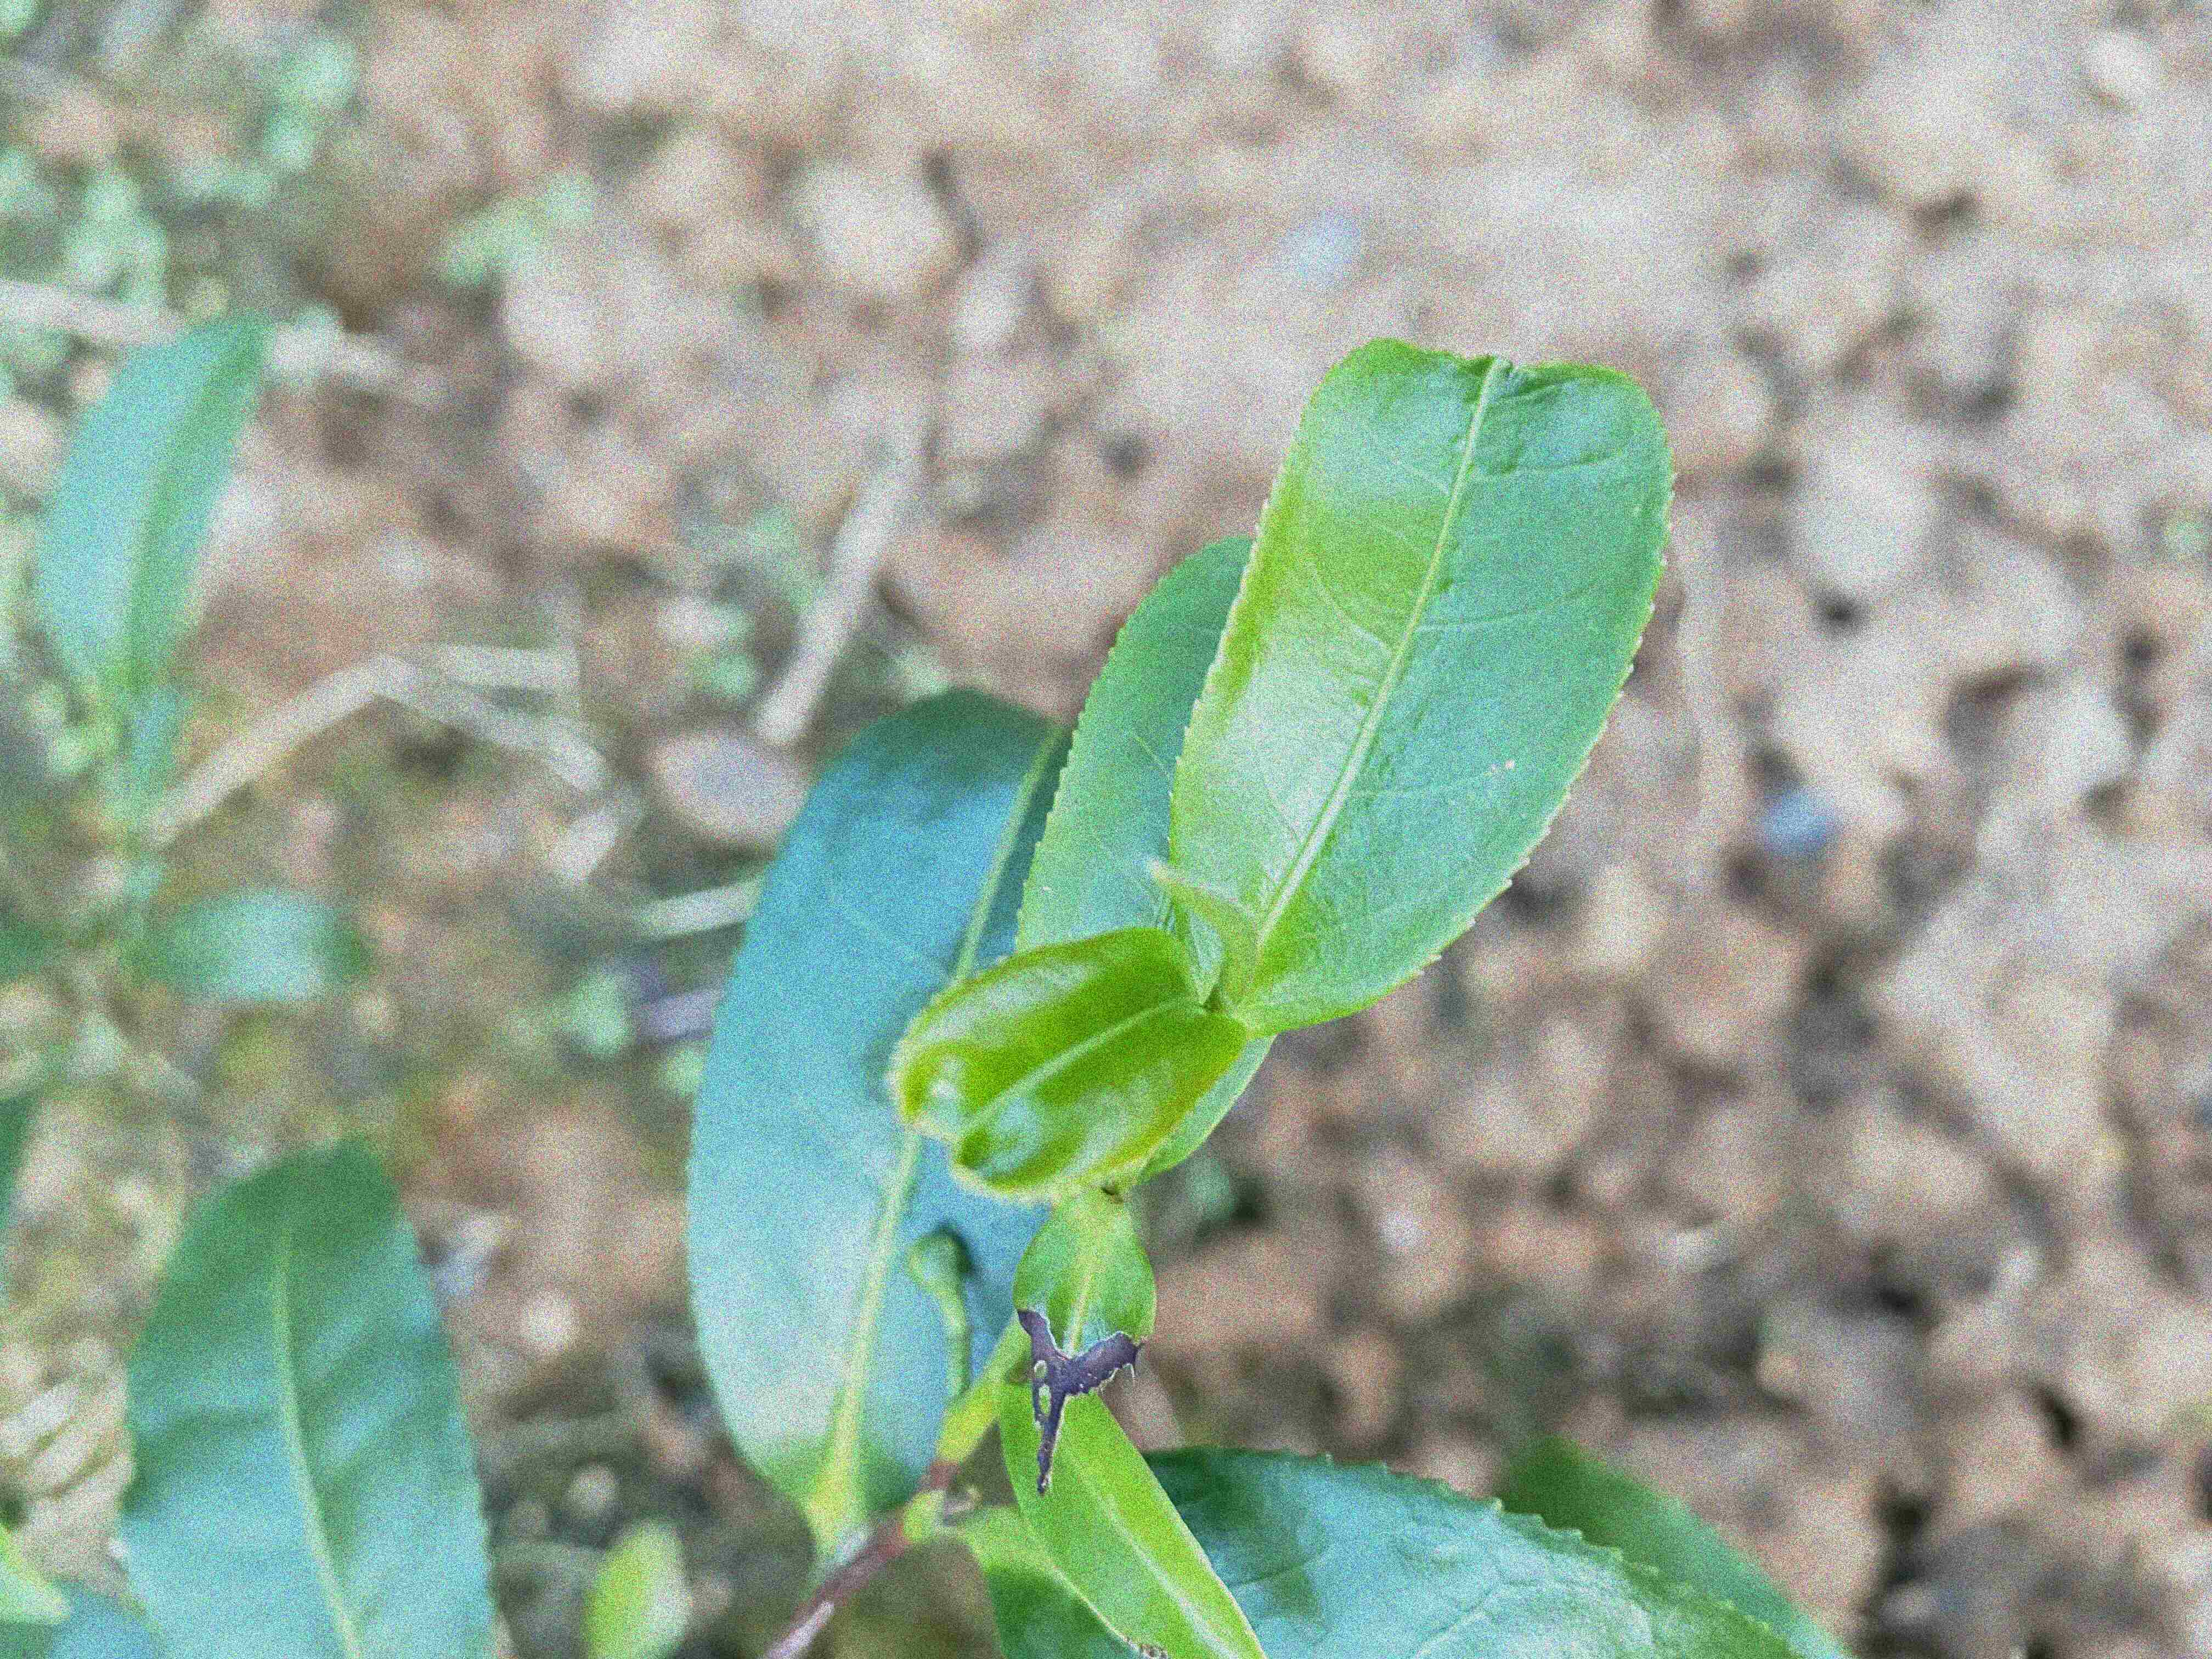chihuo_low: (885, 922, 1245, 1204)
healthy: (115, 1133, 498, 1656)
tanju_high: (1015, 1187, 1160, 1495)
